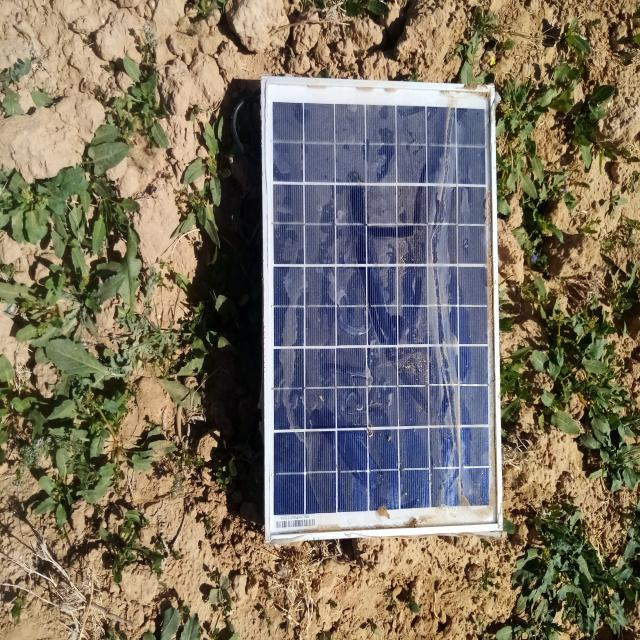faulty: (263, 81, 502, 541)
